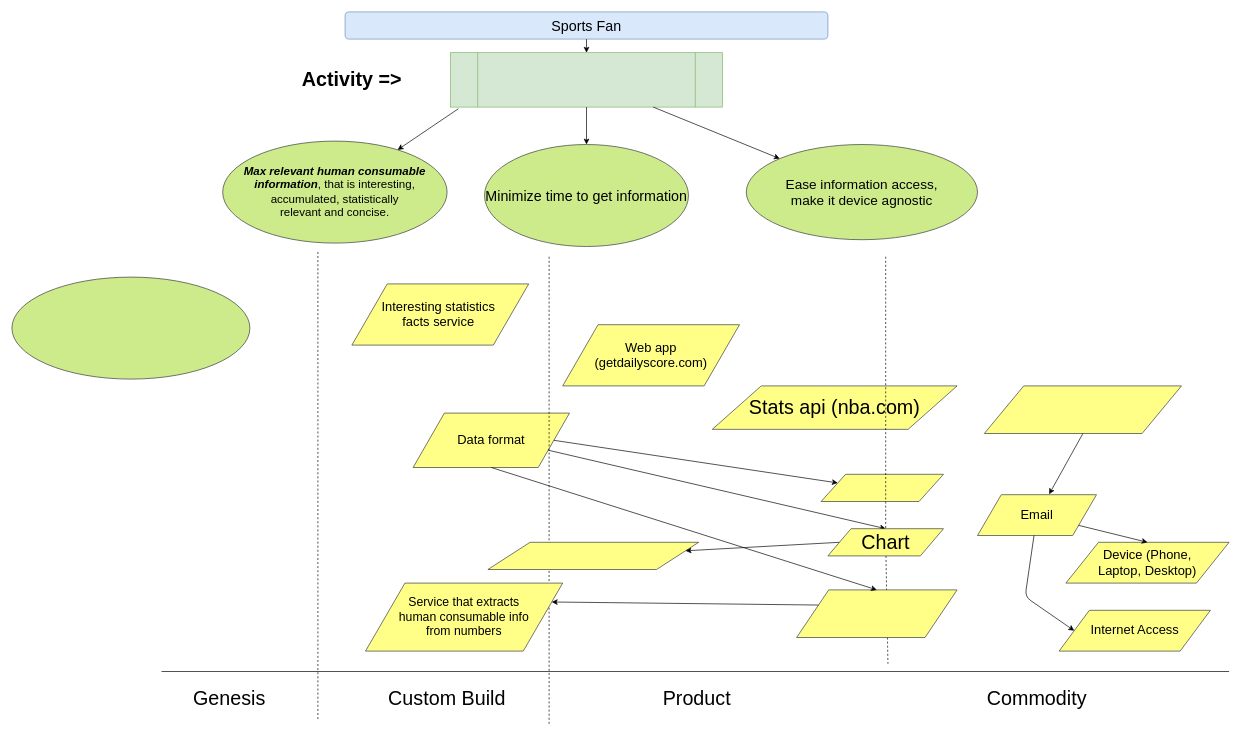
This 1242x738 diagram has some shape labels left out. Each missing label, with the centre of its shape:
"charts service" belongs at point (593, 556).
"Data Distribution" belongs at point (1083, 409).
"Get charts that tell better story that just numbers and letters" belongs at point (130, 327).
"Number" belongs at point (882, 488).
"Sentence" belongs at point (876, 613).
"Track past games scores and stats" belongs at point (586, 79).
